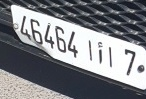4: (19, 11, 32, 41), (43, 22, 56, 49), (67, 31, 78, 58)
6: (29, 18, 43, 45), (55, 25, 66, 53)
7: (122, 48, 136, 77)
a: (93, 41, 106, 67)
